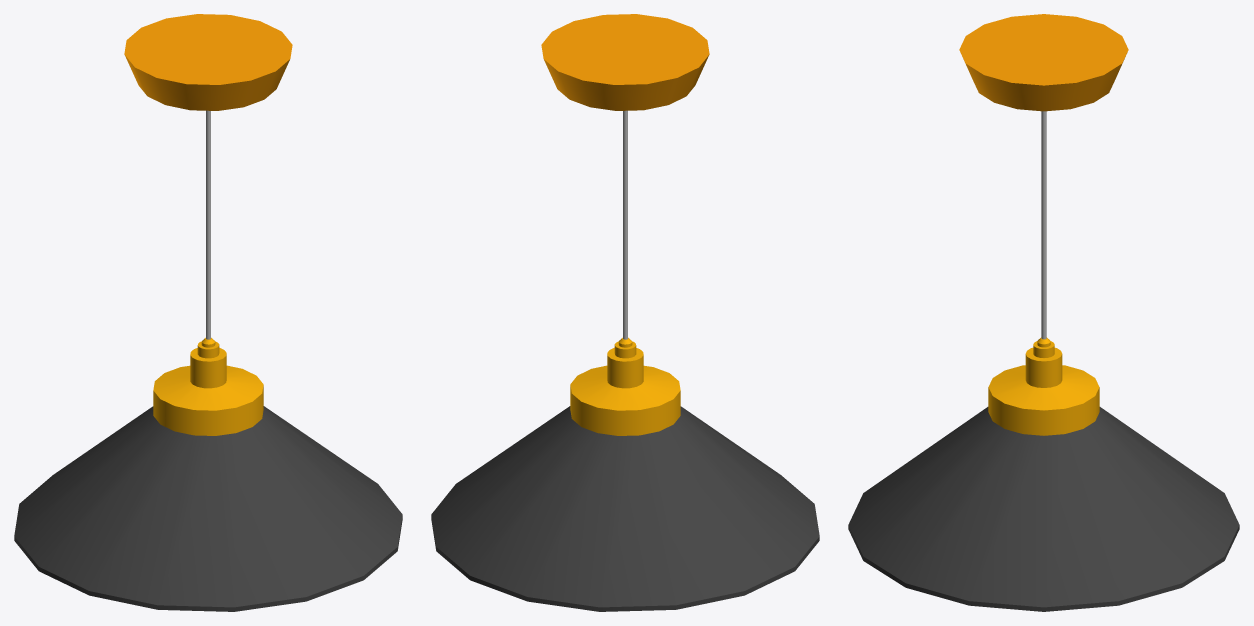
File: Lamp06.fbx
3 views of the same model, side by side, from view 1: azimuth 30°, elevation 25°; view 2: azimuth 150°, elevation 25°; view 3: azimuth 270°, elevation 25° (orthographic).
Parts seen in each view (by area): view 1: Lamp06; view 2: Lamp06; view 3: Lamp06.
Boxes of the visible parts, <box> form: Lamp06: <box>14,14,402,611</box>; Lamp06: <box>431,14,819,611</box>; Lamp06: <box>848,14,1239,611</box>.
Bounding box in the file's own units: 0.5554 × 0.5554 × 0.7512.
